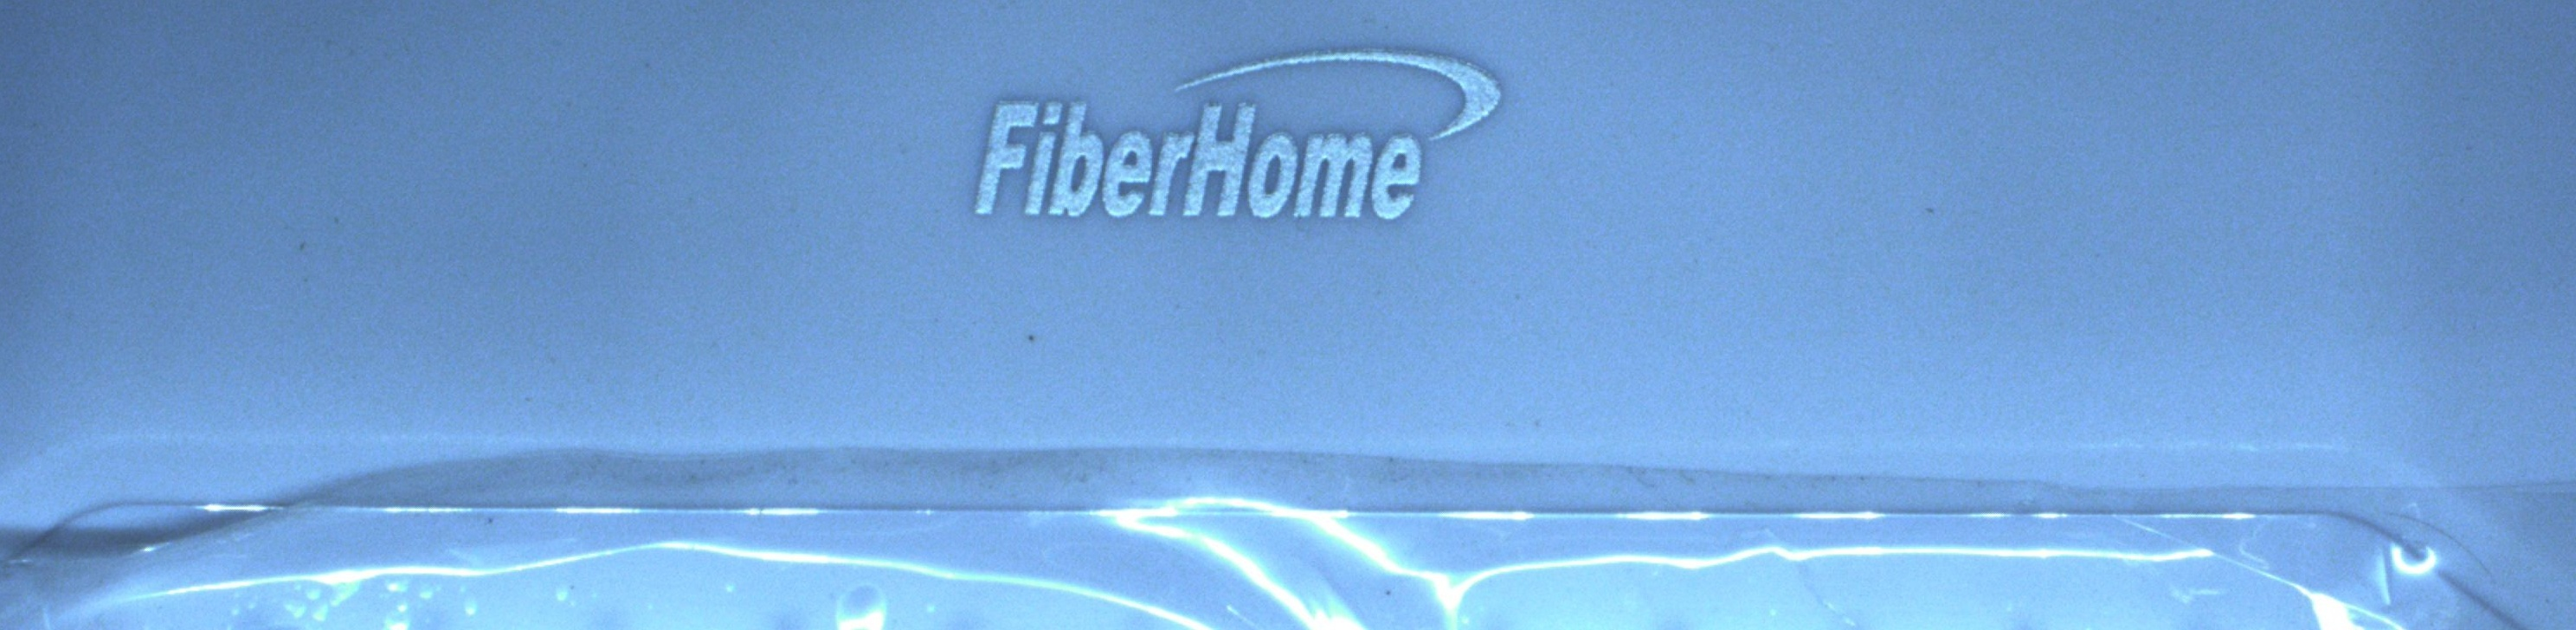AI_FiberHome: (951, 31, 1569, 251)
